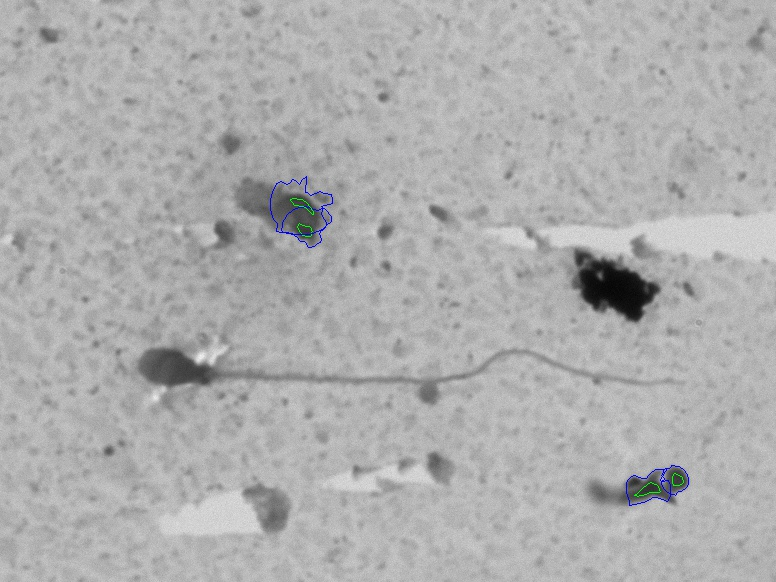Normal: (102, 325, 721, 456)
